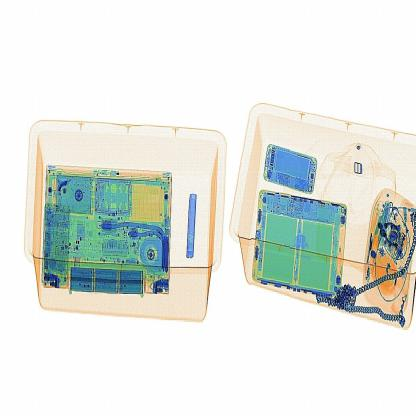pliers: (186, 192, 200, 262)
